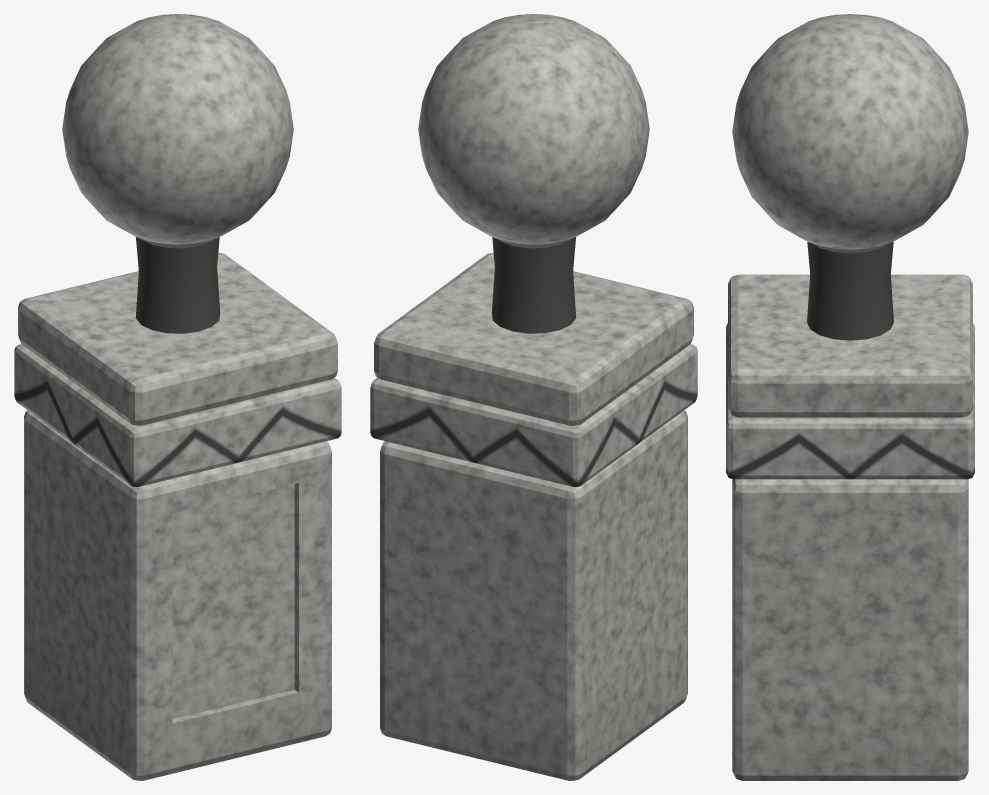
File: post_square_w_hd.glb
3 renders of one model, left to right at view 1: azimuth 30°, elevation 25°; view 2: azimuth 150°, elevation 25°; view 3: azimuth 270°, elevation 25°, orthographic. The views are drawn at different scales.
Parts seen in each view (by area): view 1: post_square_w; view 2: post_square_w; view 3: post_square_w.
Part boxes in pixels (<box>): post_square_w: <box>14,14,341,780</box>; post_square_w: <box>370,14,697,780</box>; post_square_w: <box>726,14,974,780</box>.
Bounding box in the file's own units: 0.284 × 0.895 × 0.284.
Materials: 1 (1 with a texture image).
